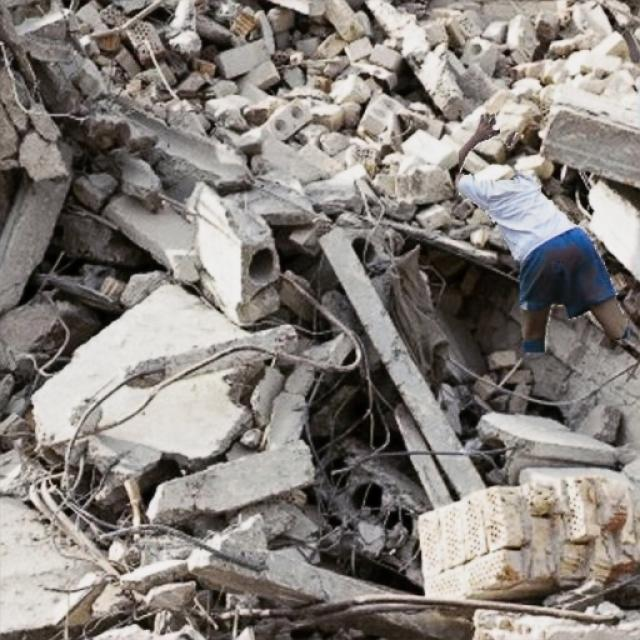Person in Rubble: (458, 114, 626, 352)
